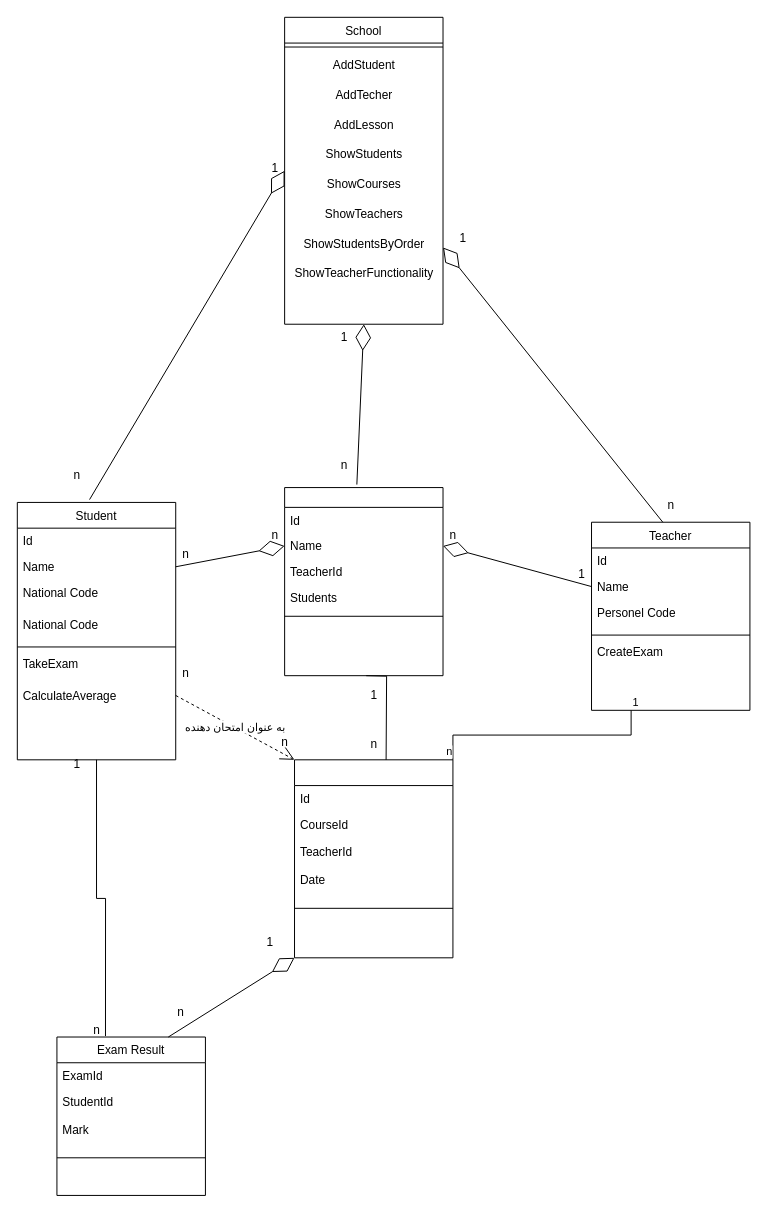
Image size: 767x1213. Some labels were removed from this diagram. Here are the shapes that lost their labels. From the top down, the box of each, then its label:
(284, 487, 443, 676): Course
(294, 759, 453, 958): Exam
